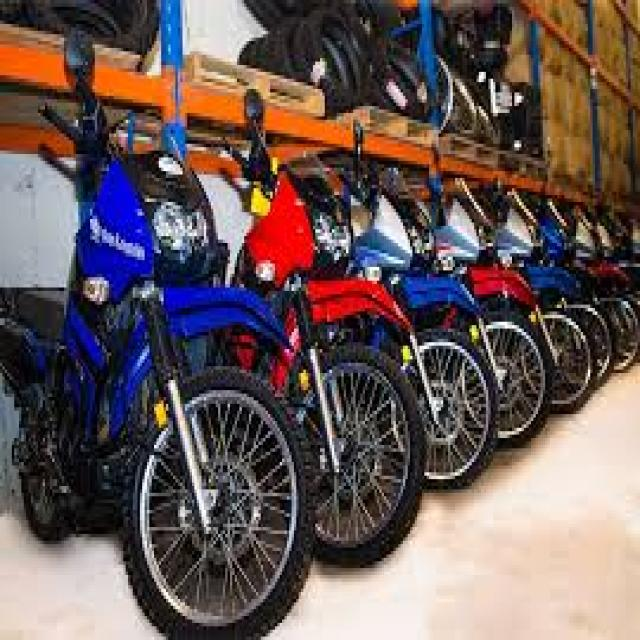bodaboda: (0, 15, 337, 640)
